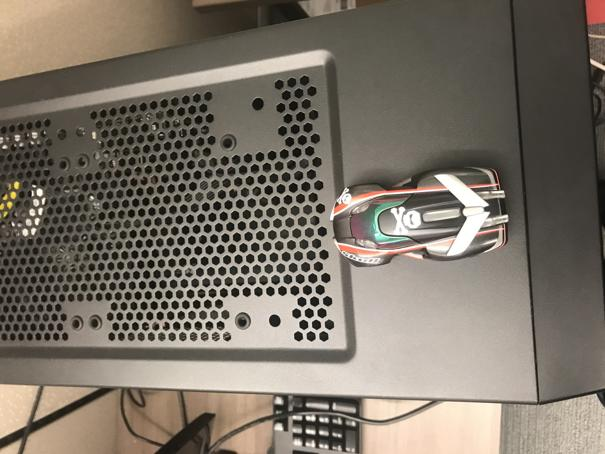Skull: (329, 165, 513, 267)
